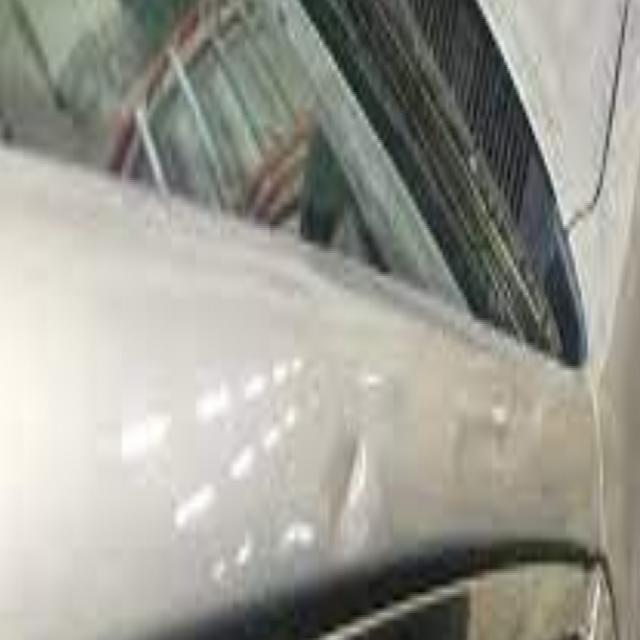dents: (330, 418, 370, 547)
